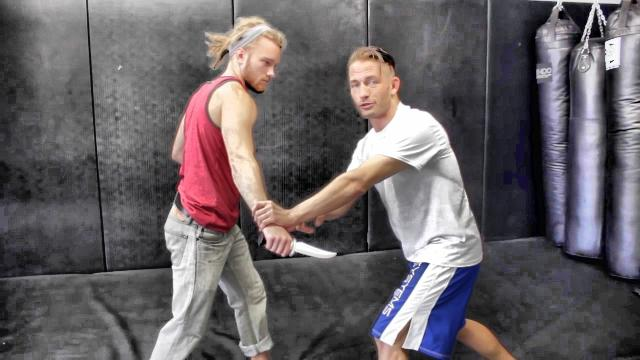knife: (257, 232, 341, 264)
